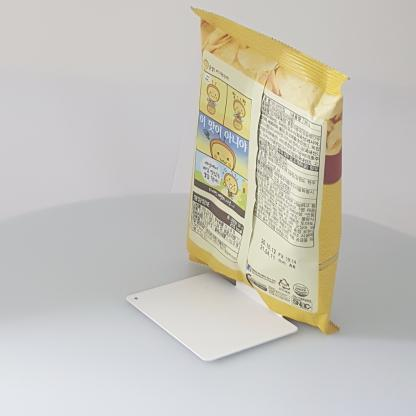Plastic Packaging: (175, 0, 369, 341)
